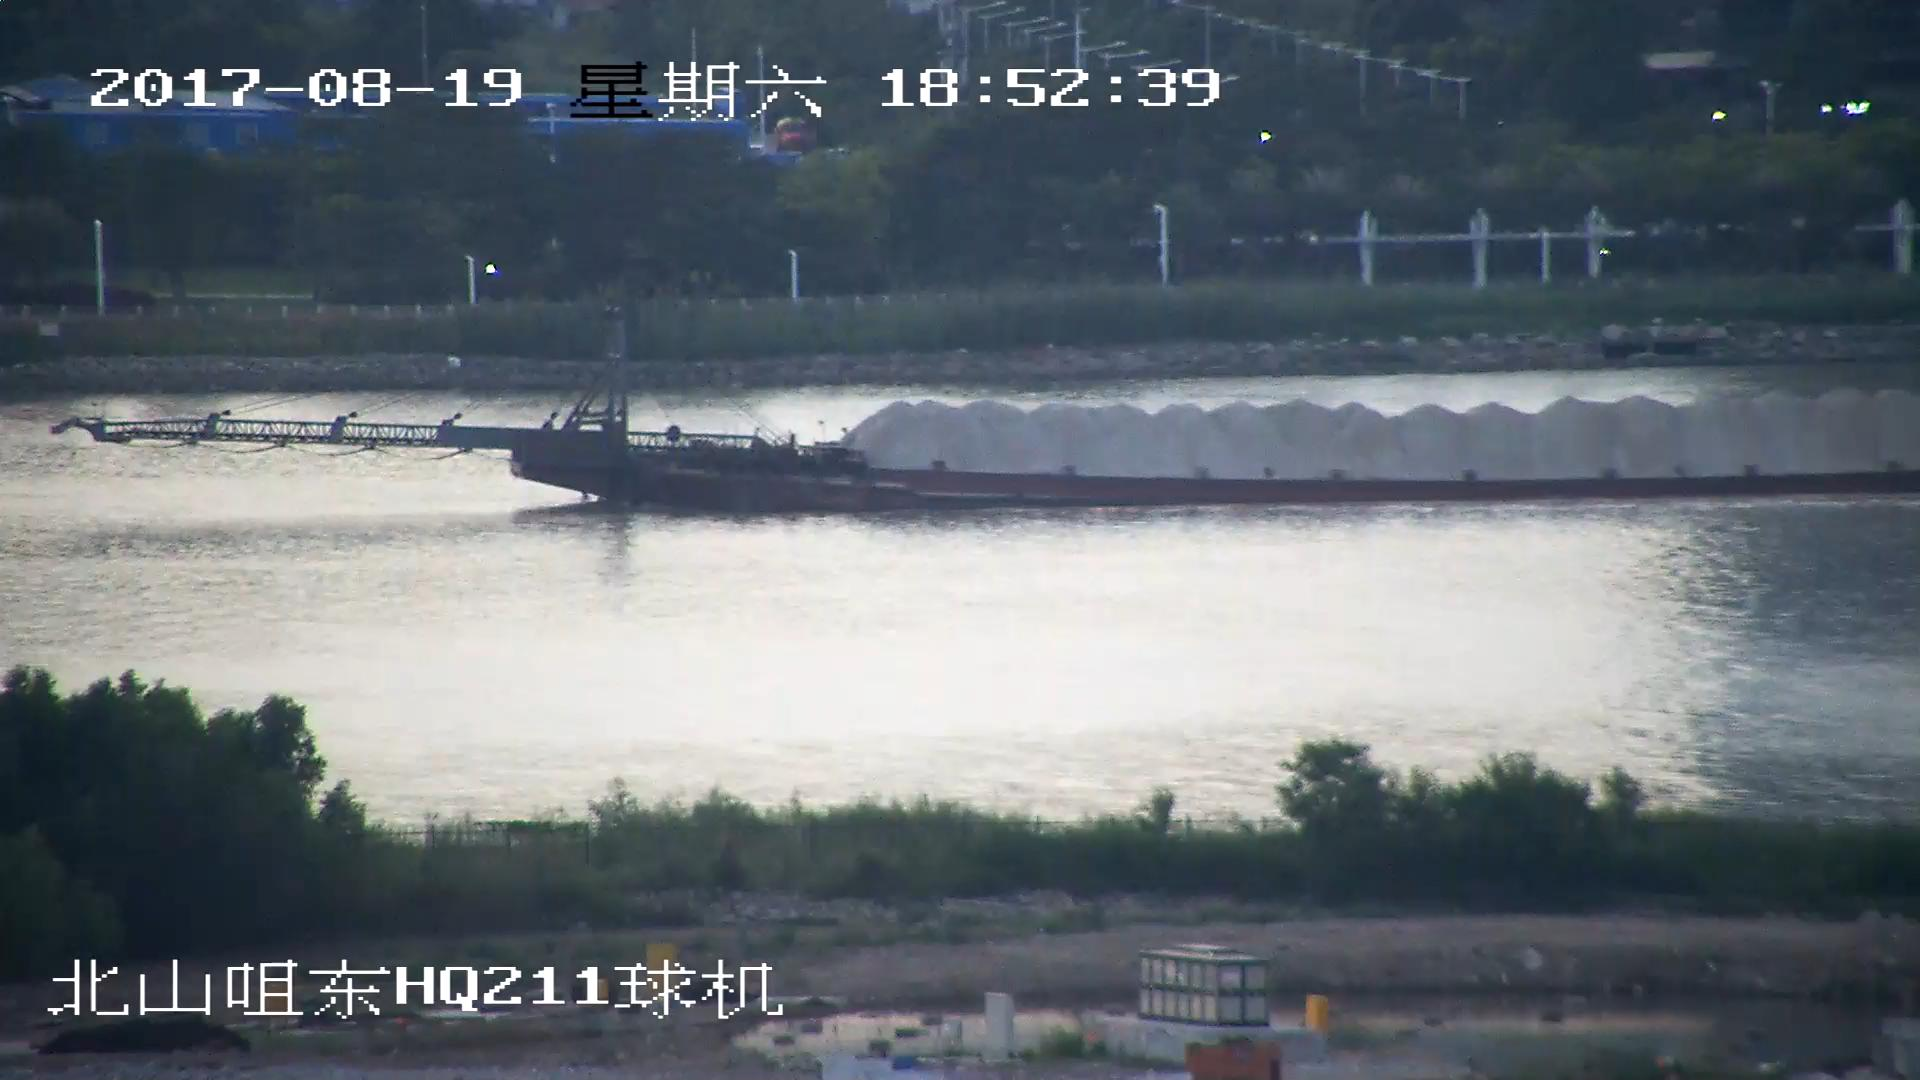ore carrier: (57, 307, 1920, 515)
